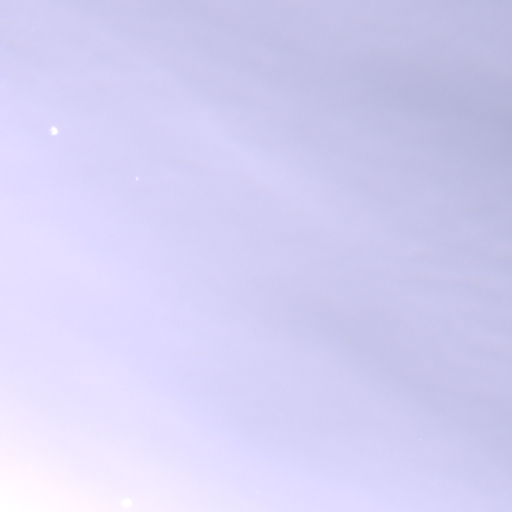Iceberg: (51, 127, 57, 134), (136, 178, 137, 179)
